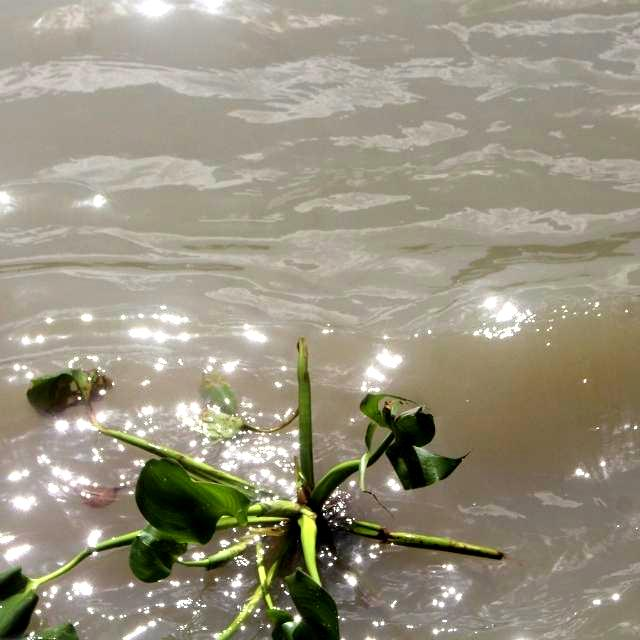water-hyacinth: (2, 341, 505, 640)
